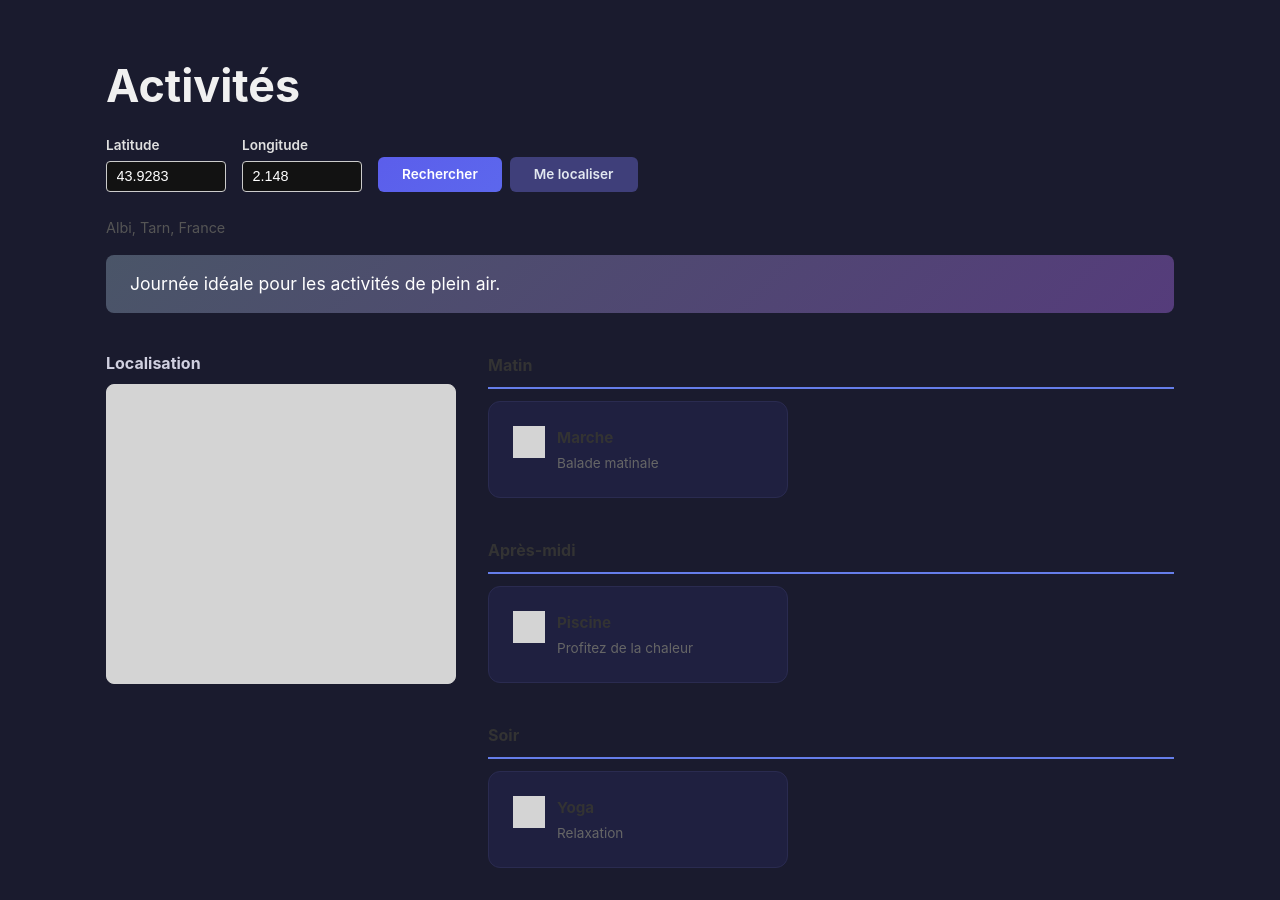
Test: ActivitiesPage › allows changing longitude value
Replace the text in the number field labelled "Longitude" with "3.0" at (302, 176), box [242,161,362,192]
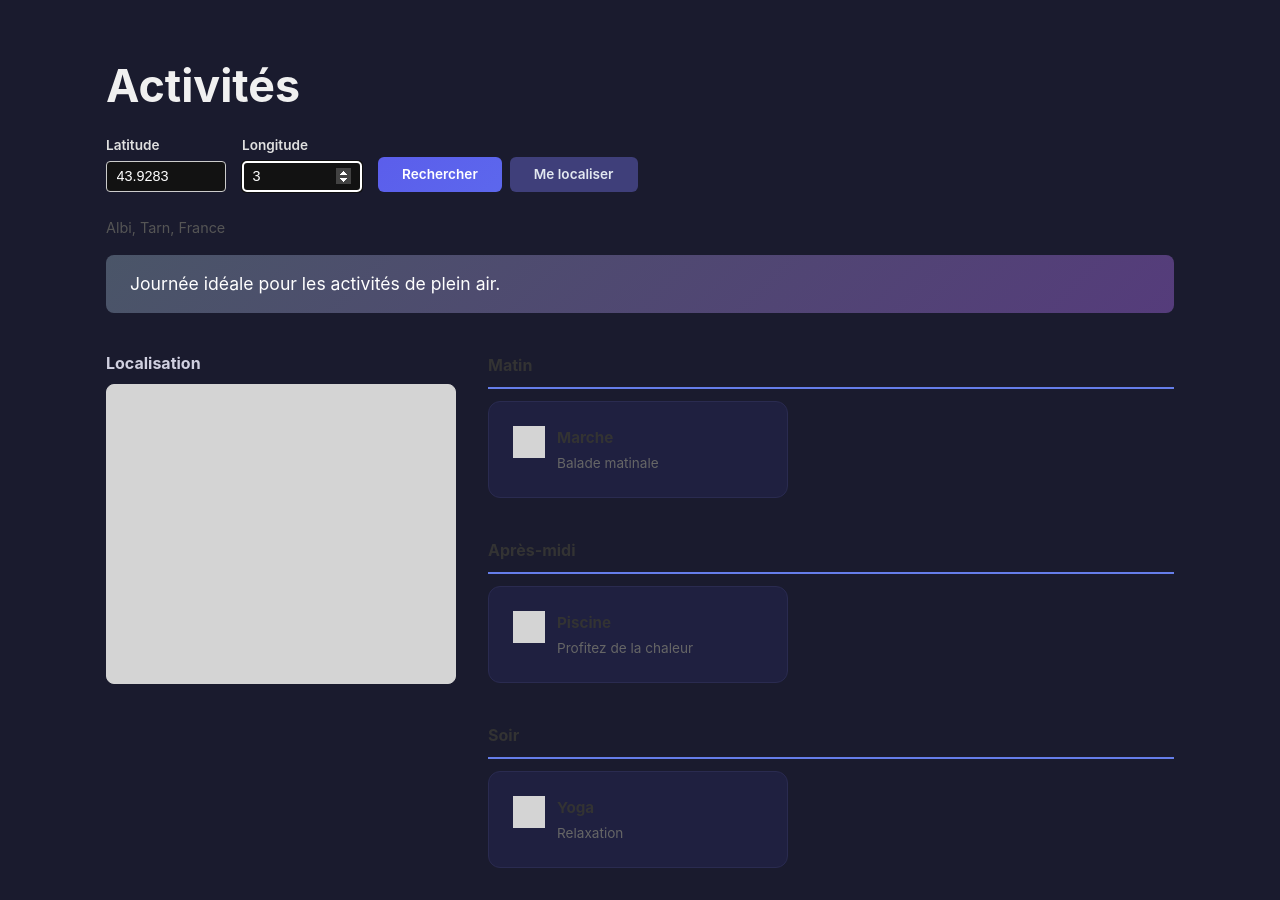
Now the number field labelled "Longitude" holds "3", box [242,161,362,192]
